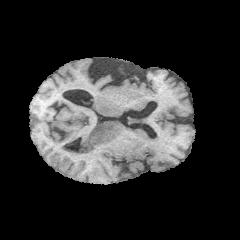glioma: (60, 121, 117, 156)
